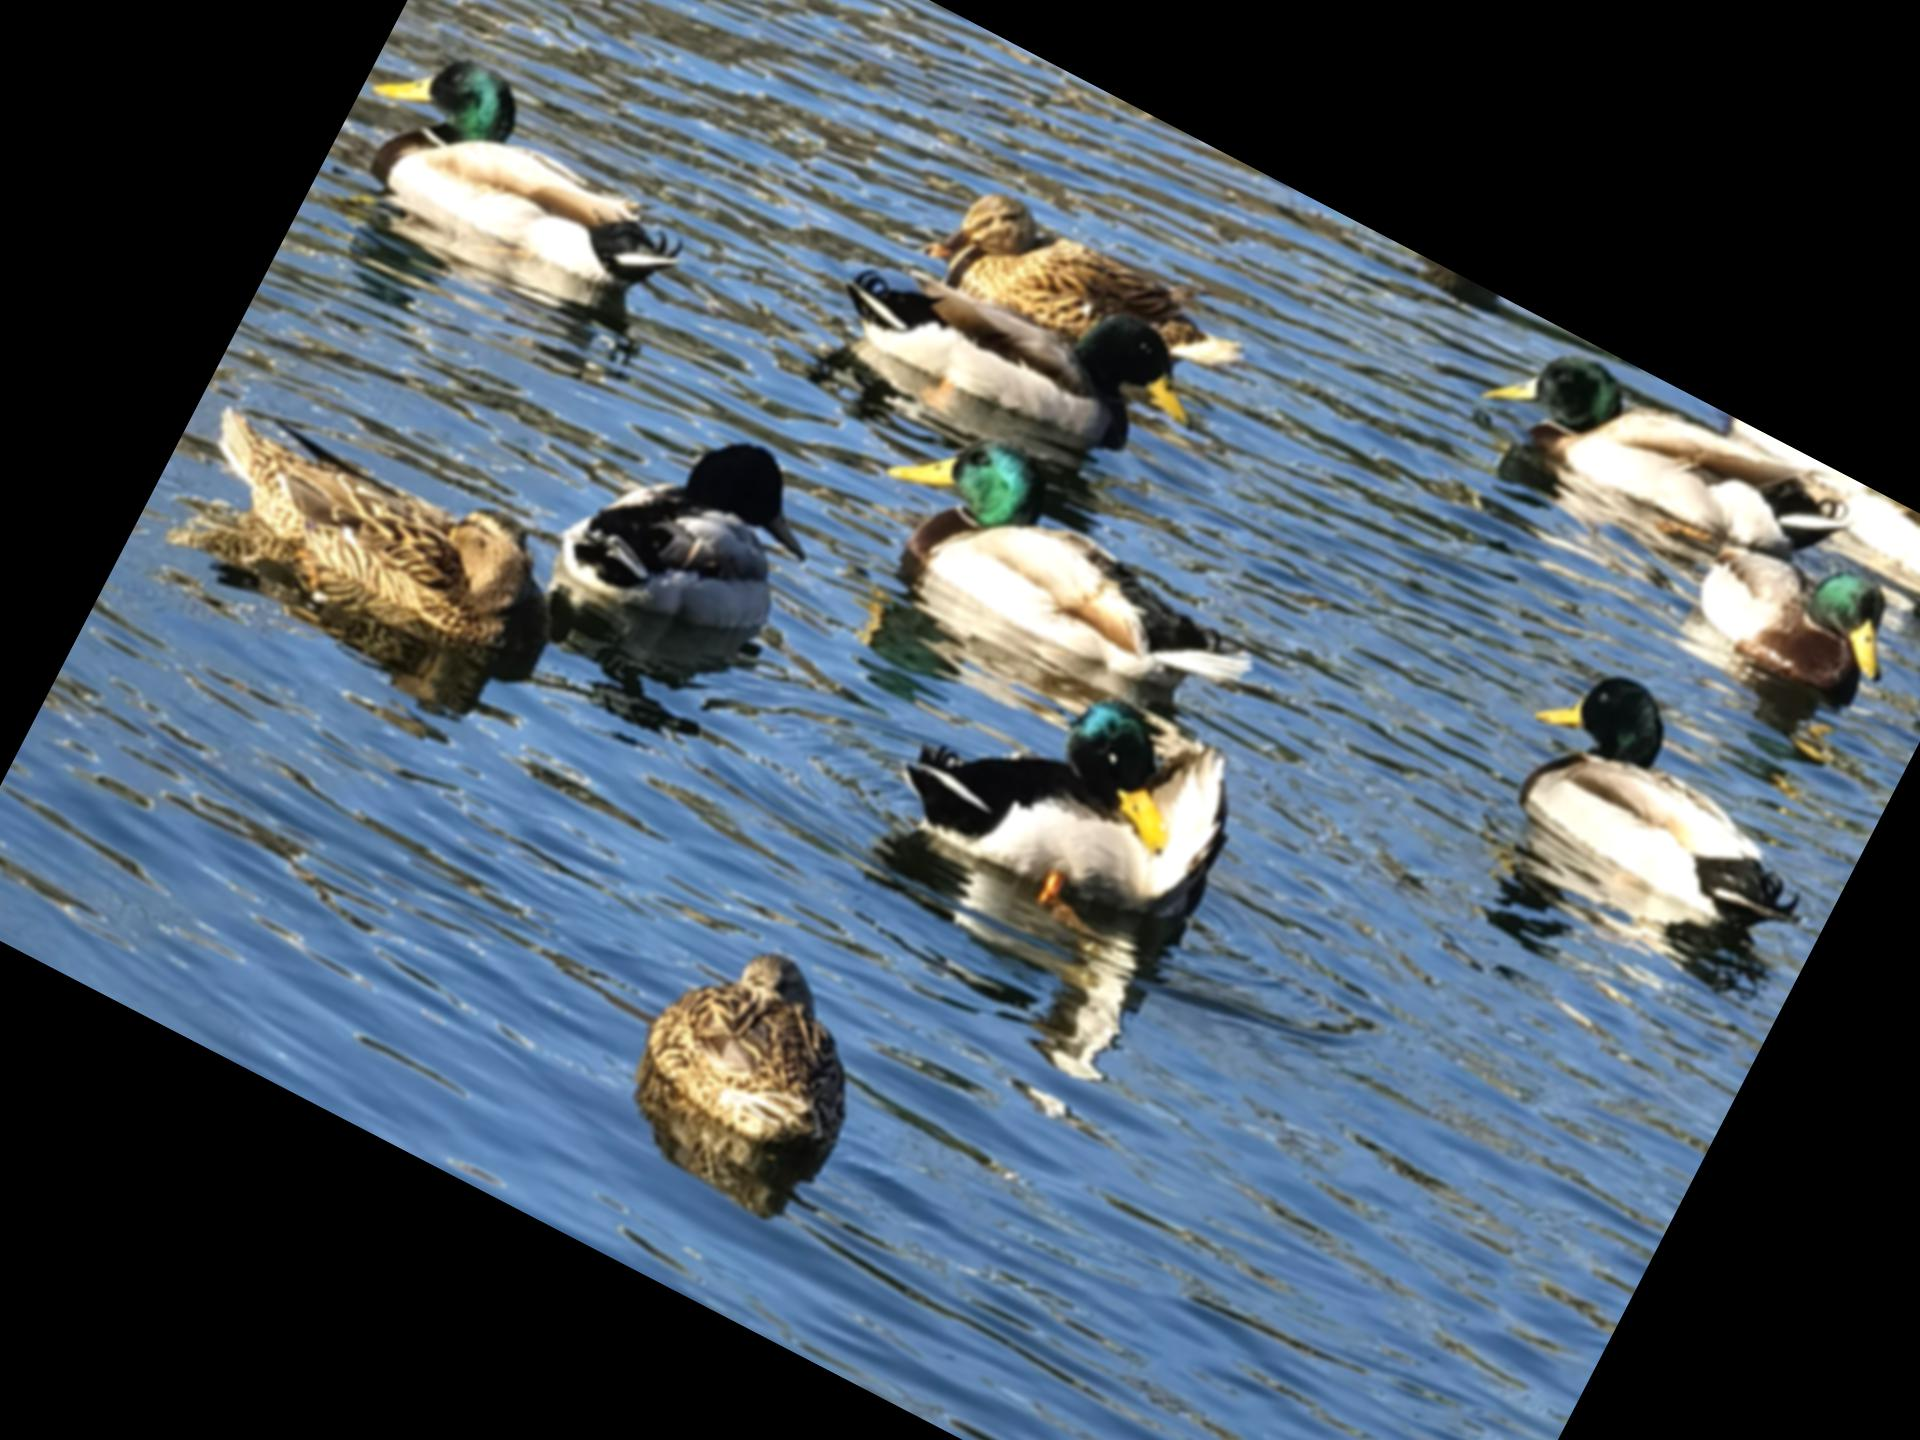duck: (830, 387, 1299, 755), (135, 349, 597, 718), (308, 8, 732, 358), (800, 185, 1234, 523), (1466, 625, 1875, 983), (869, 613, 1274, 973), (1451, 309, 1863, 616), (528, 352, 874, 690), (883, 138, 1270, 417), (594, 902, 913, 1213), (1661, 489, 1920, 726)
